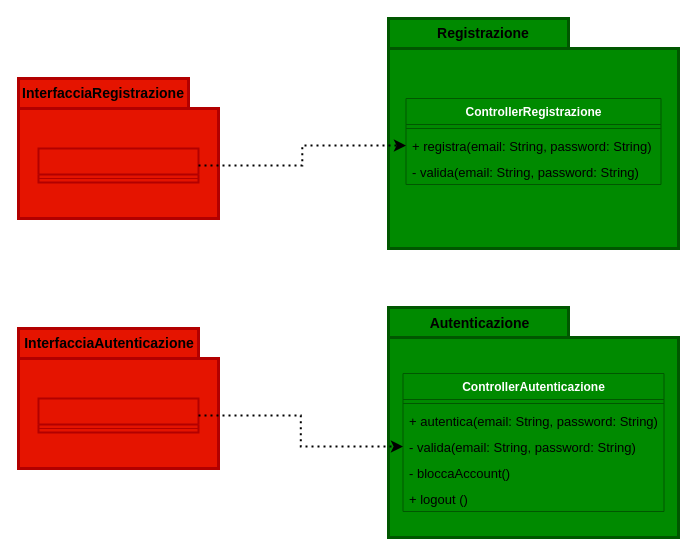
Some shapes in this 697 by 556 pixel diagram are drawn without their labels. The shapes that lost their labels are listed below. From the top down, each one's centre as x and y in pixels, then its label:
(118,165): ViewRegistrazione
(118,415): ViewAutenticazione
